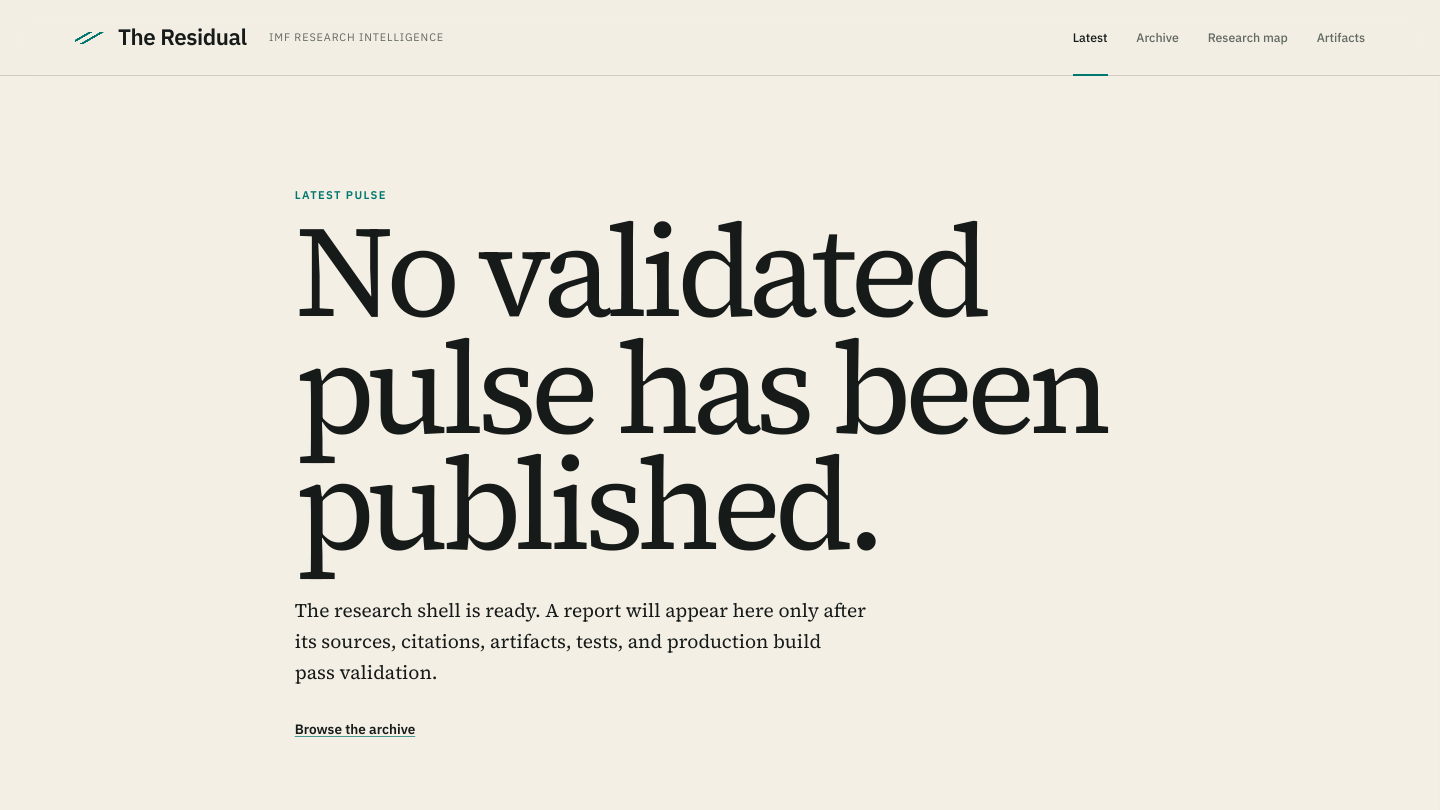
Scenario: application routes › opens the current report directly and navigates to the archive
Expected: the number of headings is 1, left=295, top=213, right=1145, bottom=563
Click the link "Archive": (1158, 38) left=1136, top=0, right=1179, bottom=75
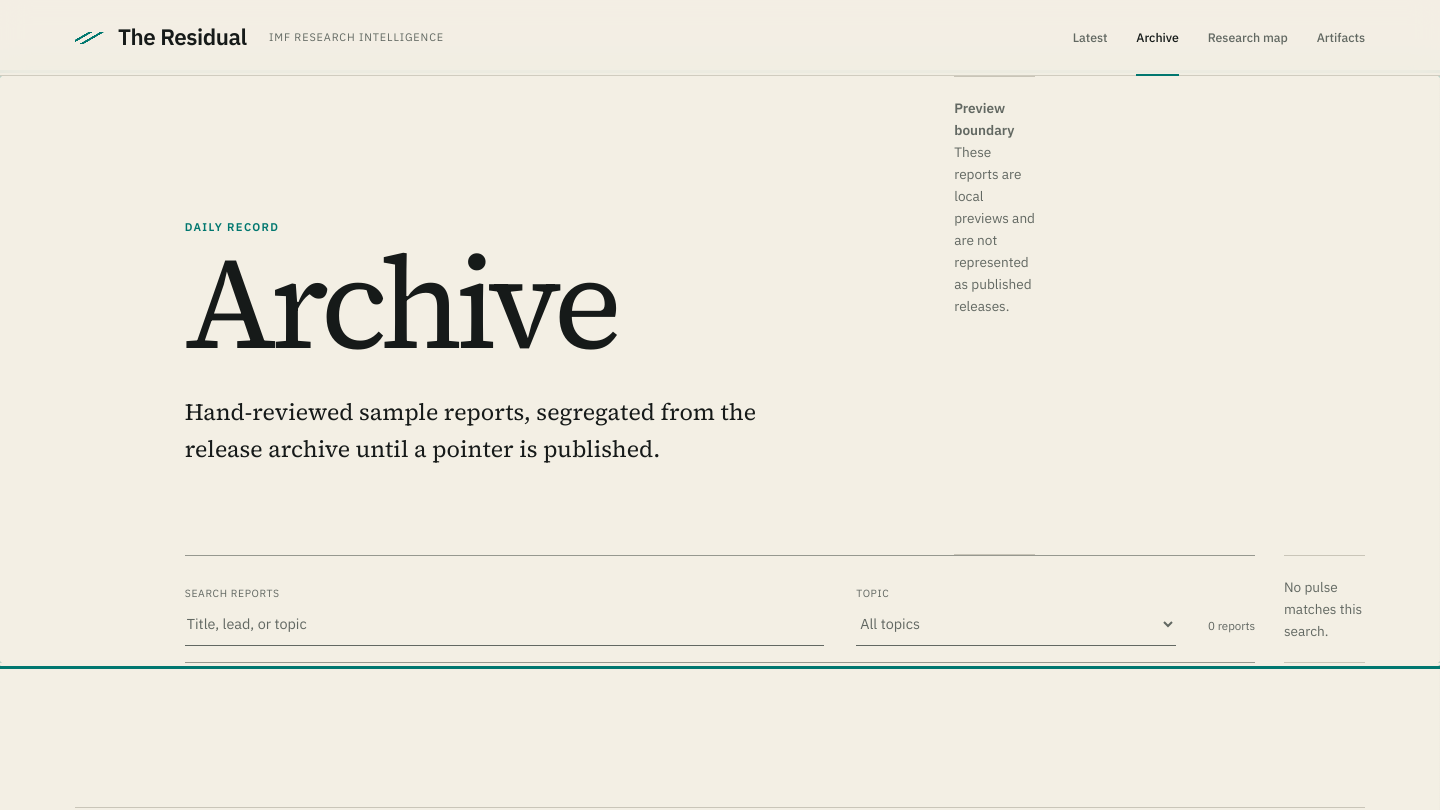
Result: the heading "Archive" is shown at left=185, top=214, right=615, bottom=391
